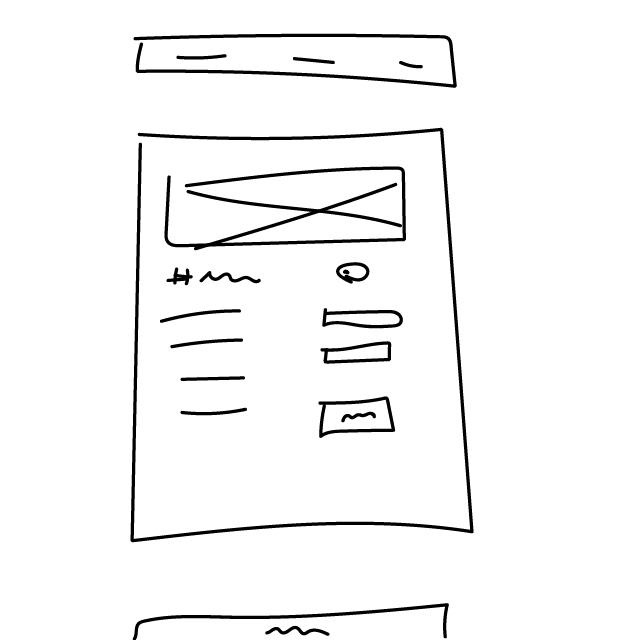buttonrotation: (315, 394, 401, 441)
checkboxrotation: (334, 262, 376, 286)
containerrotation: (128, 125, 481, 552)
footerrotation: (122, 599, 461, 640)
framerotation: (159, 164, 414, 251)
headingrotation: (165, 263, 267, 291)
inputrotation: (321, 304, 408, 336), (319, 340, 399, 368)
navrotation: (131, 30, 462, 94)
textrotation: (158, 305, 260, 422)
